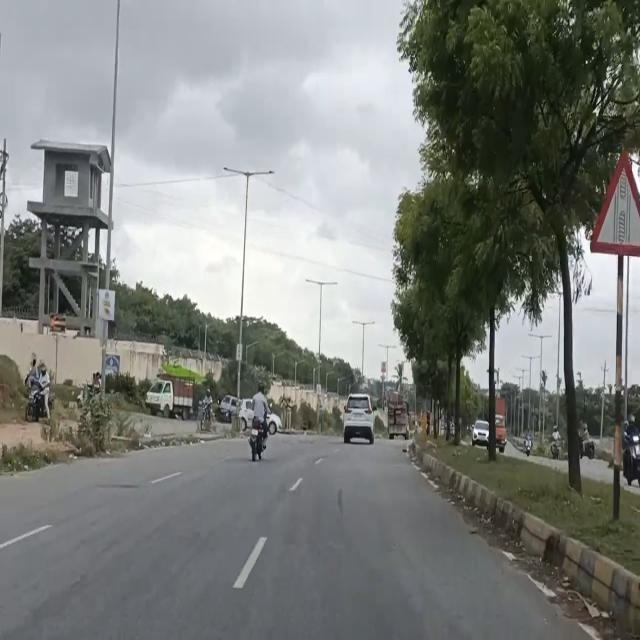bien_nguy_hiem: (589, 147, 640, 266)
